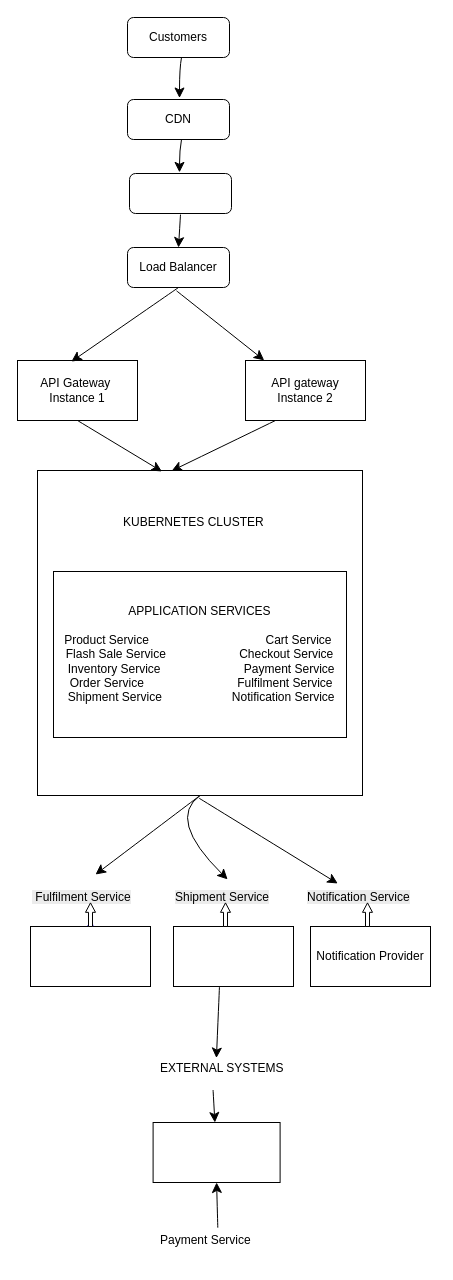
This 453x1280 diagram has some shape labels left out. The centre of each missing label's shape, as x and y in pixels:
Delivery Partner: (233,956)
Fulfilment operation: (90,956)
Payment Gateway: (216,1152)
WAF: (180,193)
